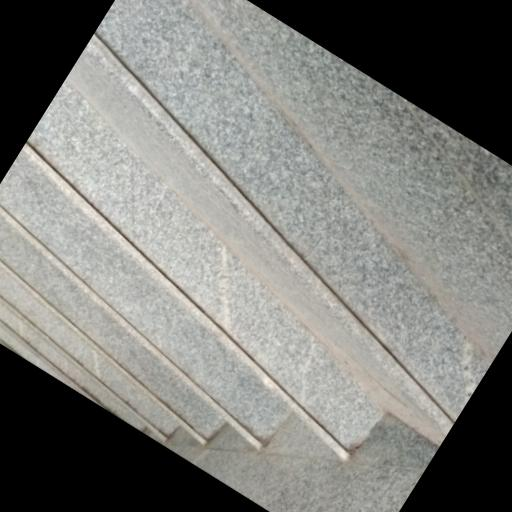stairs: (0, 0, 489, 457)
